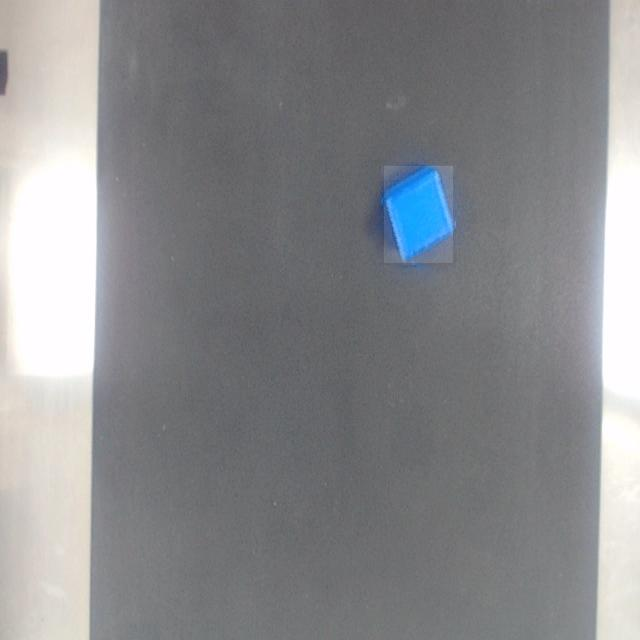Azul: (385, 166, 453, 263)
